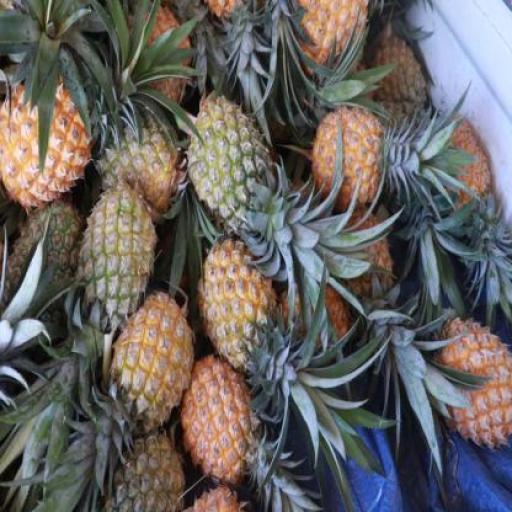------------------------------: (113, 295, 192, 430), (185, 94, 263, 222), (82, 187, 156, 321), (184, 353, 255, 480), (98, 115, 176, 204), (202, 455, 284, 512)
Pineapple - v8 v1: (4, 75, 96, 206), (200, 240, 274, 356), (443, 316, 508, 442), (314, 108, 384, 210)
